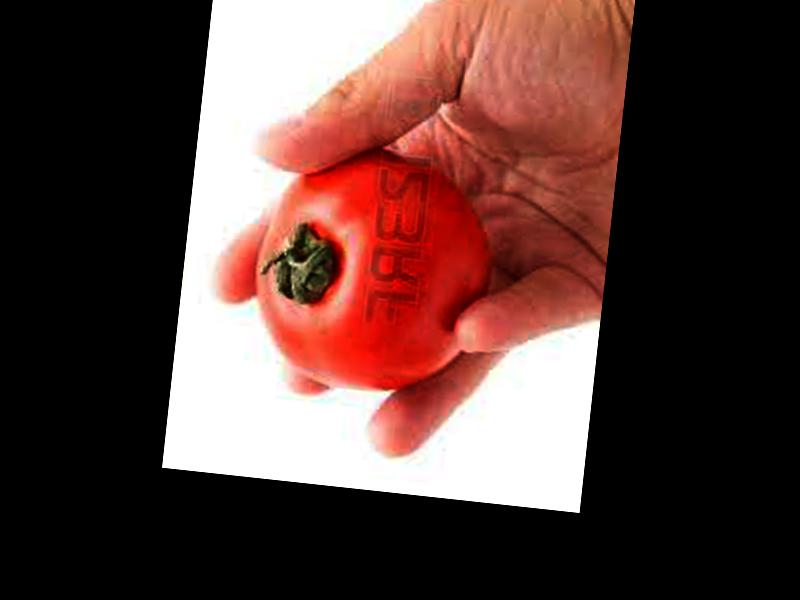Tomato: (244, 140, 501, 403)
